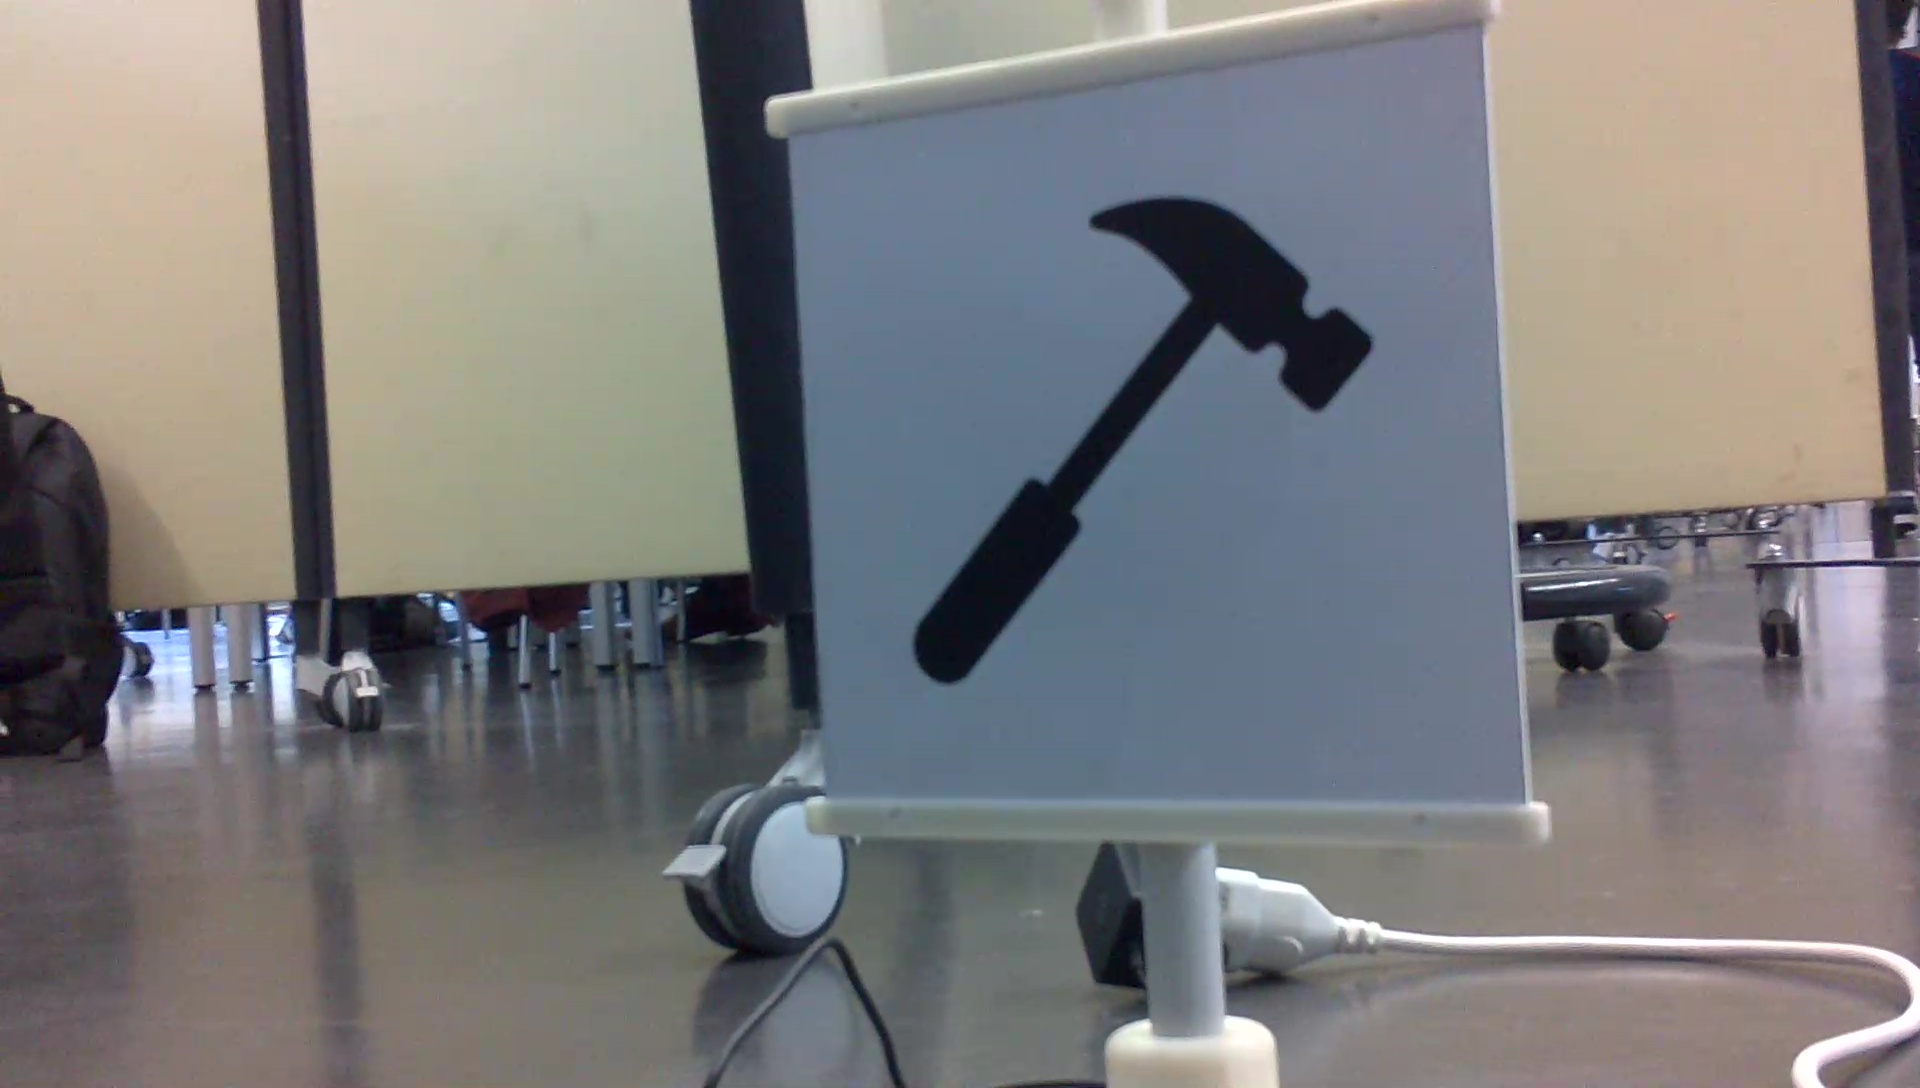hammer: (901, 189, 1381, 695)
